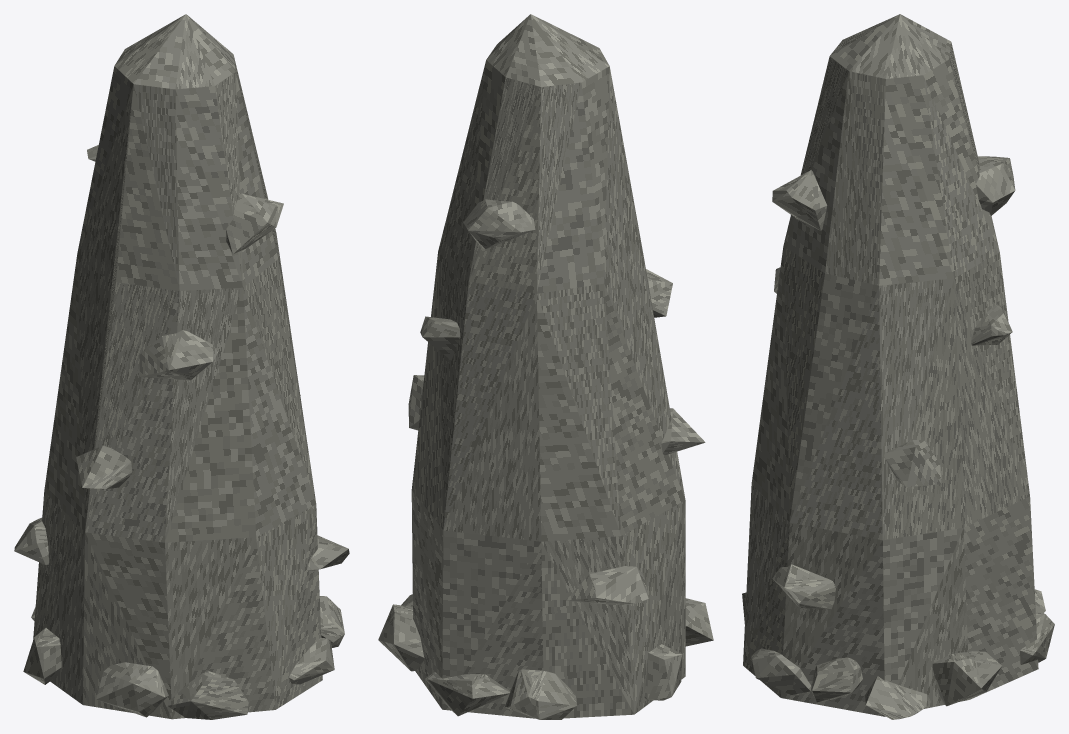
Rendered from f_rock_large_mound_tall.glb.
3 views of the same model, side by side, from view 1: azimuth 30°, elevation 25°; view 2: azimuth 150°, elevation 25°; view 3: azimuth 270°, elevation 25° (orthographic).
Visible parts, largest first — view 1: block_heaped-rock_large, block_loose-rock_large (×10); view 2: block_heaped-rock_large, block_loose-rock_large (×11); view 3: block_heaped-rock_large, block_loose-rock_large (×10).
Boxes of the visible parts, x1,y1,x2,y2 form: block_heaped-rock_large: [33, 14, 322, 719]; block_loose-rock_large (×10): [14, 193, 349, 719]; block_heaped-rock_large: [411, 14, 685, 718]; block_loose-rock_large (×11): [378, 199, 713, 719]; block_heaped-rock_large: [743, 14, 1038, 716]; block_loose-rock_large (×10): [751, 156, 1054, 719].
Size of the model in its own units: 0.9984 by 2.1 by 0.9219.
Materials: 1 (1 with a texture image).
